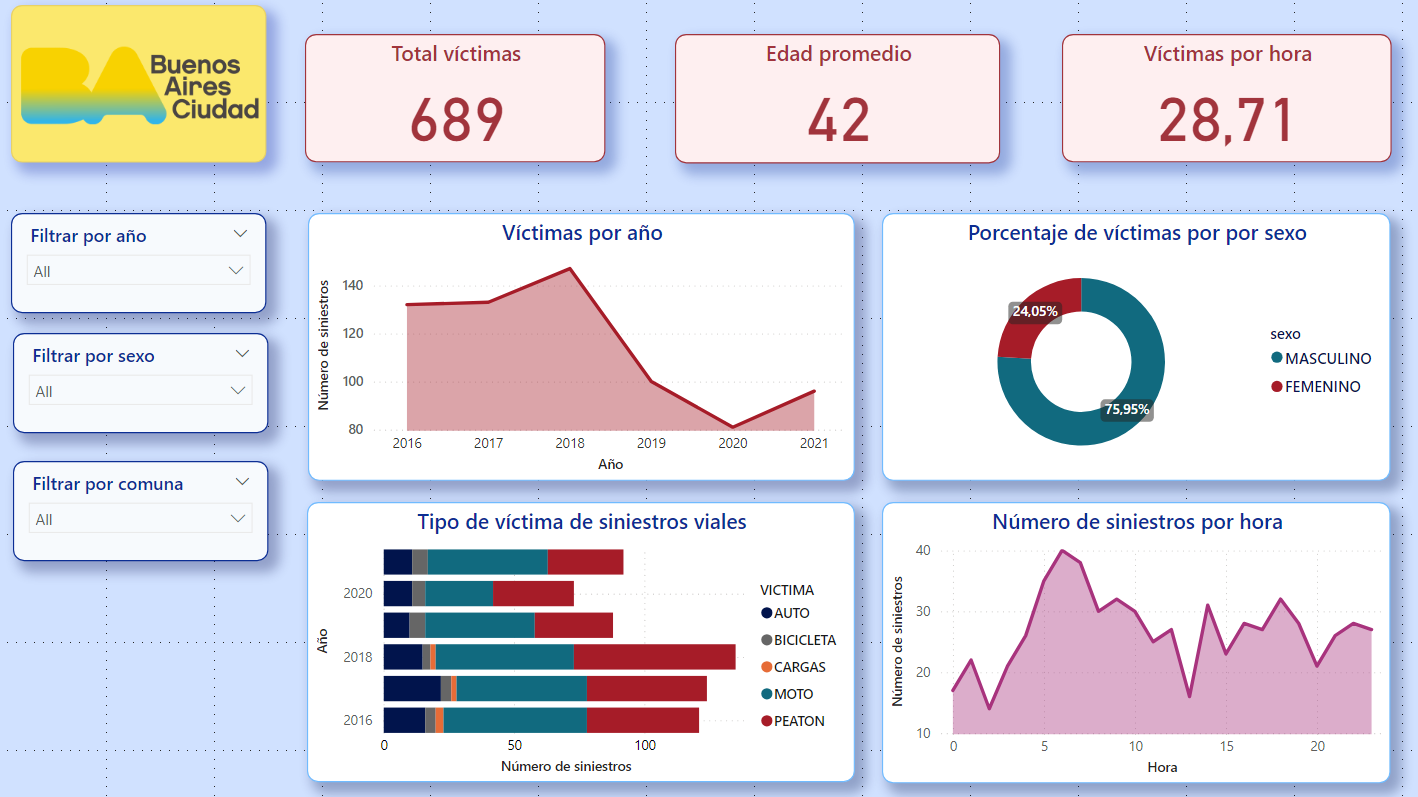

Layout of this report page (visuals, bound fields, positions):
{"tool":"powerbi","page":{"name":"Primera página","canvas":[1280,720],"ordinal":1},"visuals":[{"type":"areaChart","title":"Víctimas por año","fields":{"Category":["HECHOS.AAAA"],"Y":["Sum(HECHOS.N_VICTIMAS)"]},"box":[275.3,194.8,486,237.5],"z":0},{"type":"image","box":[11.9,9.9,227.2,140.2],"z":1000},{"type":"donutChart","title":"Porcentaje de víctimas por  por sexo","fields":{"Category":["VICTIMAS.SEXO"],"Y":["Sum(HECHOS.N_VICTIMAS)"]},"box":[786.1,194.8,452.2,237.5],"z":2000},{"type":"areaChart","title":"Número de siniestros por hora","fields":{"Category":["HECHOS.HH"],"Y":["HECHOS.NumeroSiniestros"]},"box":[786.1,451.2,452.2,250.4],"z":3000},{"type":"slicer","fields":{"Values":["HECHOS.AAAA"]},"box":[11.9,194.8,226.6,89.4],"z":4000},{"type":"slicer","fields":{"Values":["HECHOS.COMUNA"]},"box":[12.9,415.4,226.6,89.4],"z":5000},{"type":"slicer","fields":{"Values":["VICTIMAS.SEXO"]},"box":[12.9,301.1,226.6,89.4],"z":6000},{"type":"barChart","title":"Tipo de víctima de siniestros viales","fields":{"Category":["HECHOS.AAAA"],"Y":["HECHOS.NumeroSiniestros"],"Series":["HECHOS.VICTIMA"]},"box":[275.1,451.8,486.6,249.2],"z":7000},{"type":"card","title":"Total víctimas","fields":{"Values":["HECHOS.Total_Victimas"]},"box":[273.1,35.7,267.1,114.2],"z":8000},{"type":"card","title":"Edad promedio","fields":{"Values":["HECHOS.Promedio_Edad_Victimas"]},"box":[601.5,35.6,289.4,114.6],"z":9000},{"type":"card","title":"Víctimas por hora","fields":{"Values":["HECHOS.Promedio_Victimas_Por_Hora"]},"box":[945.4,35.7,292.9,114.2],"z":10000}]}

Visuals, with their boxes in screenshot pixels (x1, y1, x2, y2), scaled from the page's 1280x720 canvas onto the 1418x797 screenshot:
"Víctimas por año" areaChart: 305 216 843 479
image: 13 11 265 166
"Porcentaje de víctimas por  por sexo" donutChart: 871 216 1372 479
"Número de siniestros por hora" areaChart: 871 499 1372 777
slicer - HECHOS.AAAA: 13 216 264 315
slicer - HECHOS.COMUNA: 14 460 265 559
slicer - VICTIMAS.SEXO: 14 333 265 432
"Tipo de víctima de siniestros viales" barChart: 305 500 844 776
"Total víctimas" card: 303 40 598 166
"Edad promedio" card: 666 39 987 166
"Víctimas por hora" card: 1047 40 1372 166
